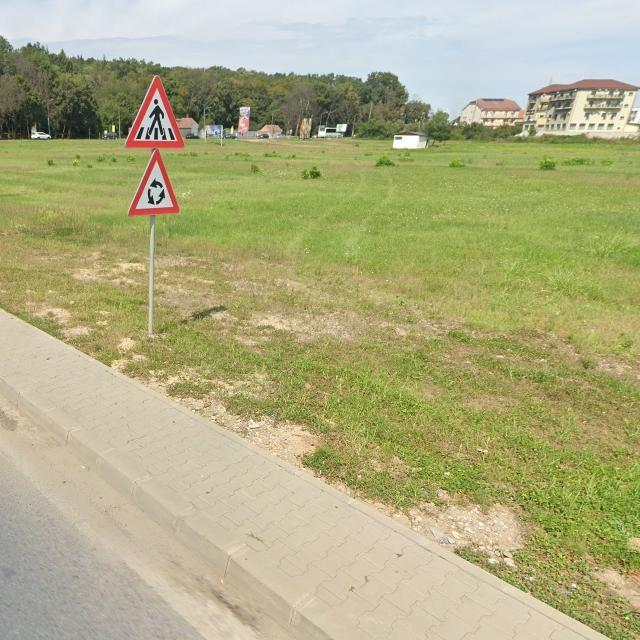warn_crosswalk: (125, 76, 185, 148)
